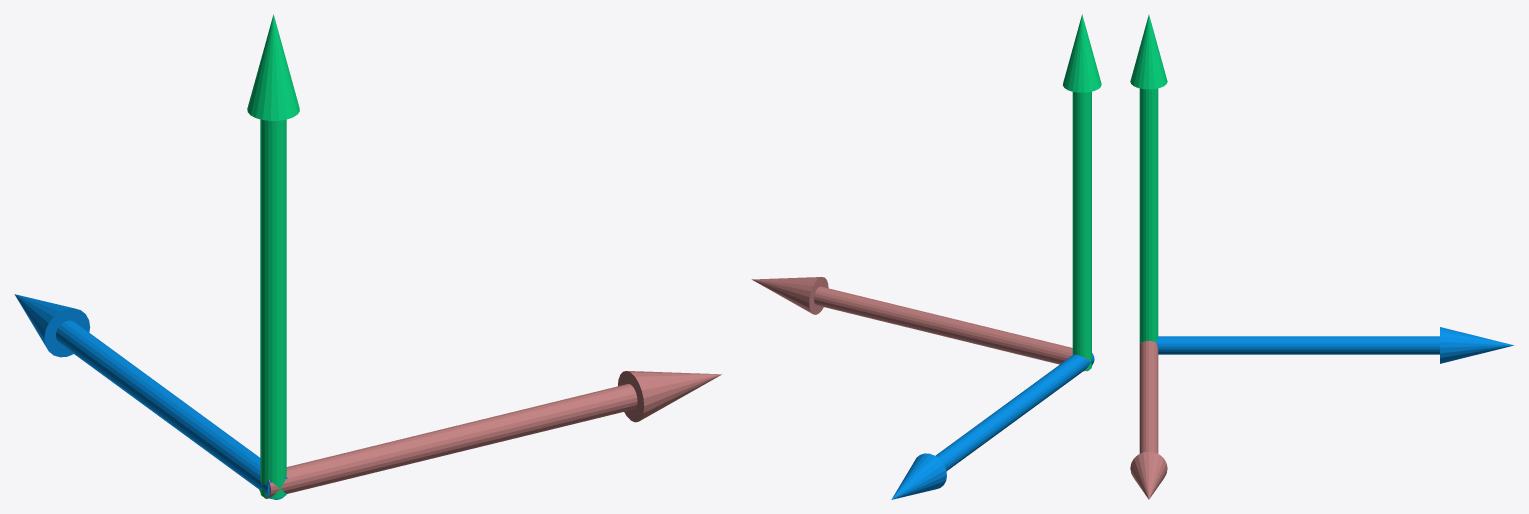
The model's file is ArrowTest.fbx.
The picture shows the model from 3 angles, left to right: view 1: azimuth 30°, elevation 25°; view 2: azimuth 150°, elevation 25°; view 3: azimuth 270°, elevation 25°; orthographic projection. The views are drawn at different scales.
Parts seen in each view (by area): view 1: pCone4; view 2: pCone4; view 3: pCone4.
Part boxes in pixels (<box>): pCone4: <box>14,14,721,499</box>; pCone4: <box>751,14,1101,499</box>; pCone4: <box>1130,15,1513,499</box>.
Size of the model in its own units: 5.15 by 5.15 by 5.15.
